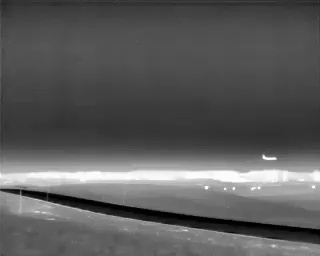AIRPLANE: (261, 152, 279, 163)
